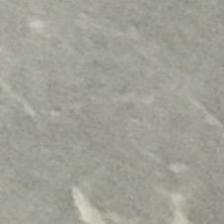Non_Crack: (36, 40, 221, 203)
